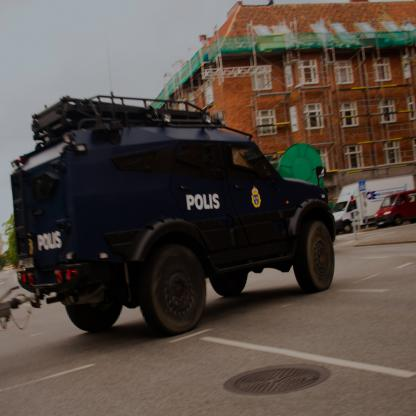Car: (11, 92, 336, 336), (372, 192, 416, 225)
